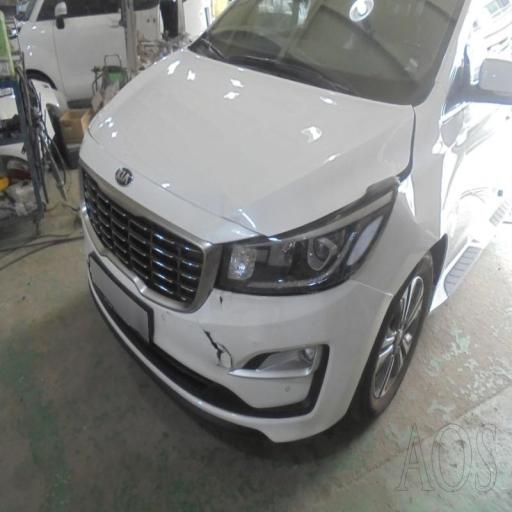broken: (168, 284, 290, 416)
